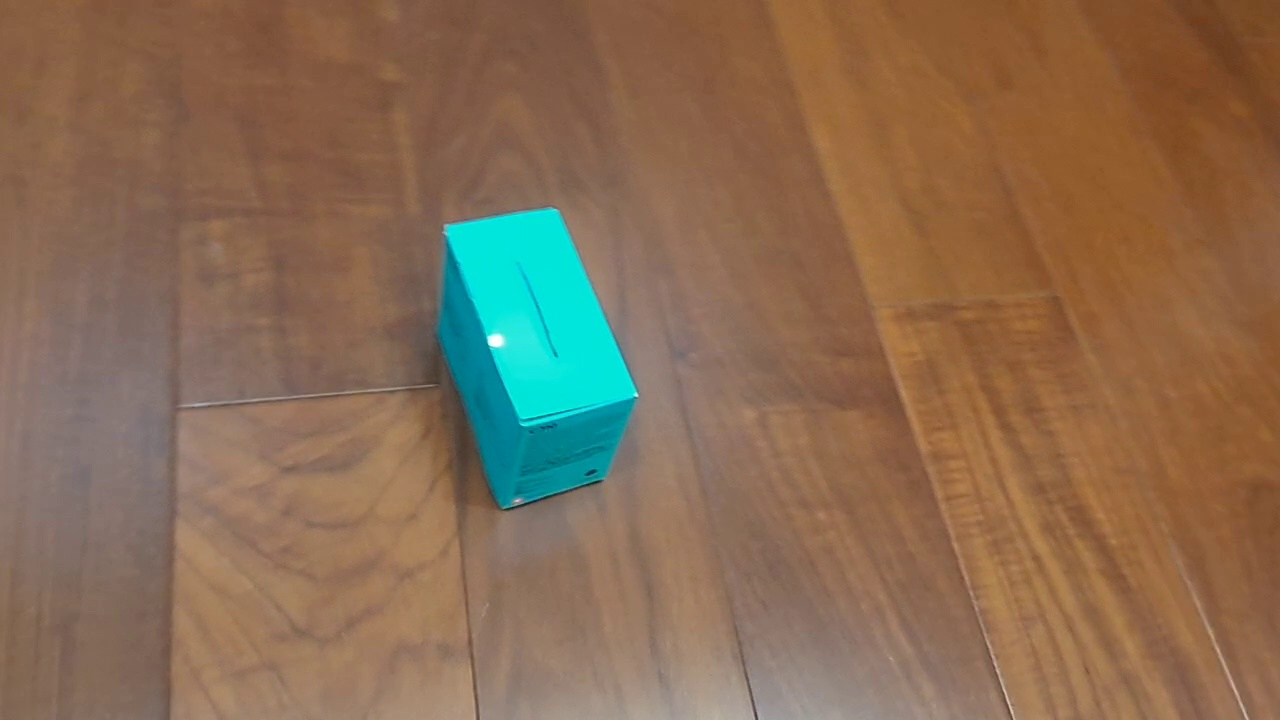webcam: (435, 207, 639, 511)
